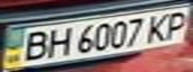0: (93, 20, 115, 52), (109, 17, 130, 50)
6: (75, 22, 96, 54)
7: (124, 16, 151, 46)
B: (15, 28, 54, 62)
H: (42, 25, 75, 58)
K: (142, 11, 175, 43)
P: (160, 7, 193, 40)
